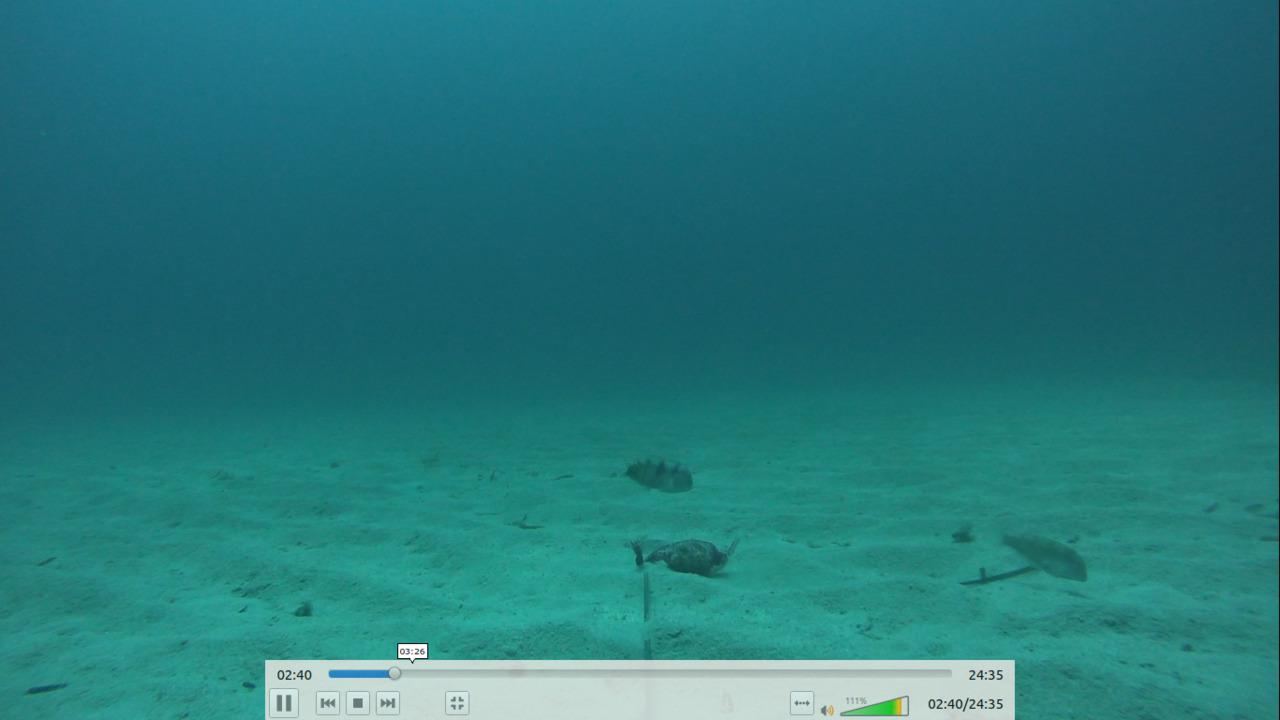raor: (988, 528, 1094, 586), (617, 451, 698, 493)
